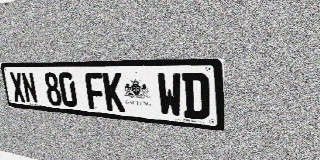0: (58, 72, 78, 108)
8: (43, 72, 62, 106)
D: (182, 73, 210, 120)
F: (84, 72, 106, 110)
K: (102, 72, 125, 112)
N: (21, 72, 38, 104)
W: (156, 73, 183, 118)
X: (9, 72, 26, 103)
